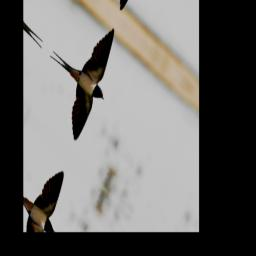Swallow: (32, 0, 126, 153)
